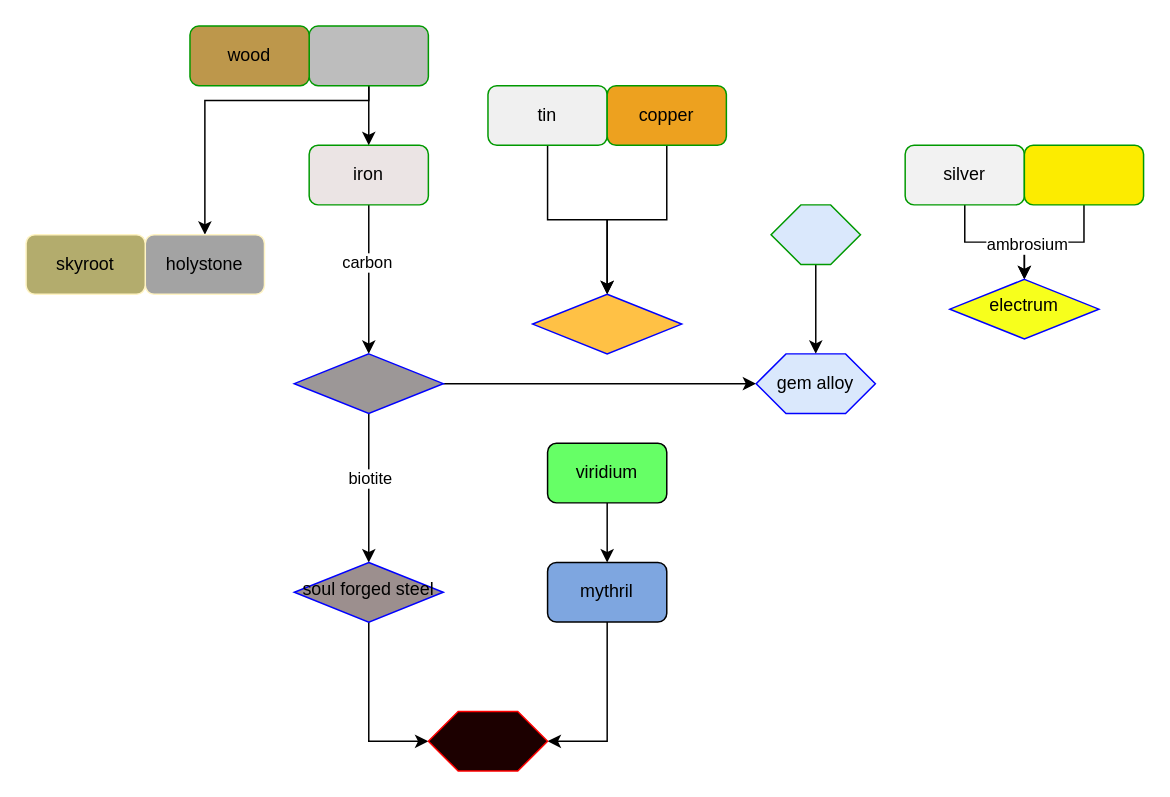
Some shapes in this 1170 by 797 pixel diagram are drawn without their labels. The shapes that lost their labels are listed below. From the top down, each one's box as (x1, y1, x2, y2) in pixels, then its label:
(308, 25, 428, 86): stone
(1023, 144, 1144, 205): gold
(770, 203, 860, 264): raw gems
(531, 293, 682, 354): bronze
(293, 352, 443, 413): steel
(427, 710, 548, 771): onyx
